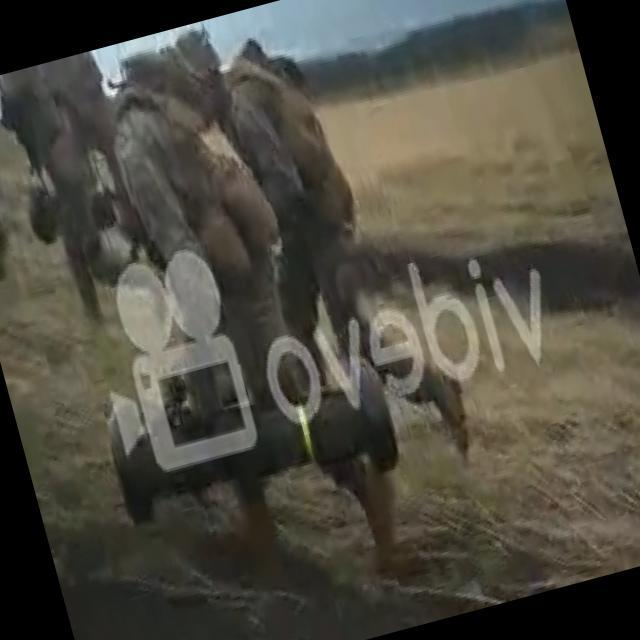rocket: (106, 352, 396, 524)
